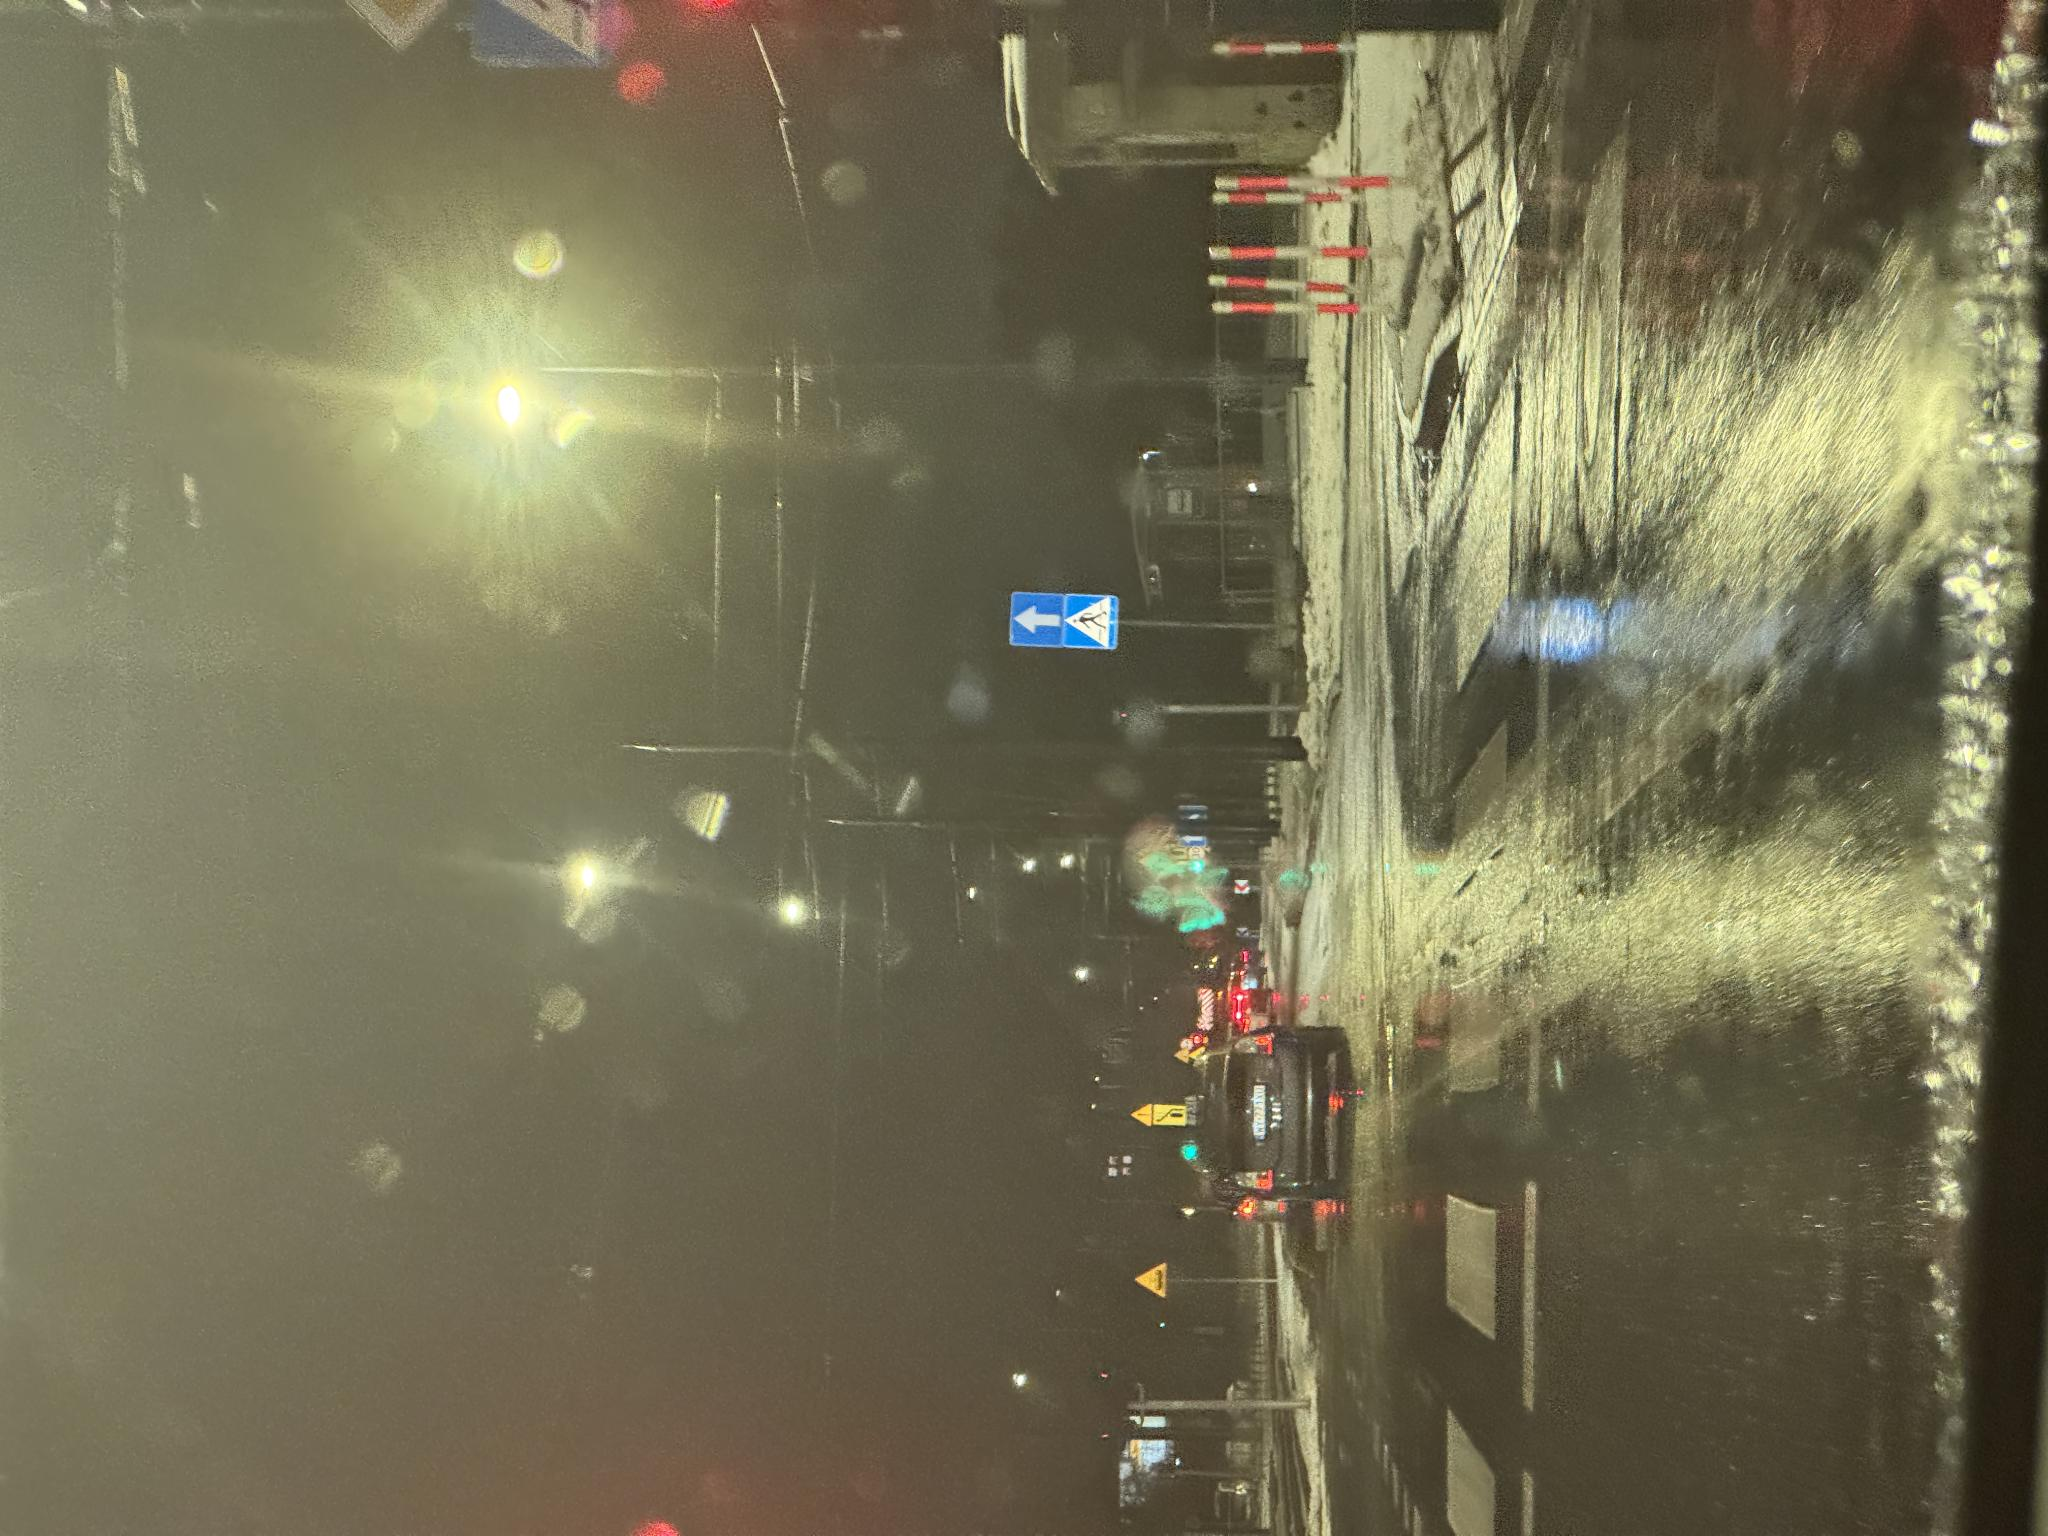information: (1471, 471, 1535, 620), (1485, 340, 1535, 452), (885, 1060, 942, 1118), (887, 1008, 947, 1063), (239, 1134, 276, 1168)
other: (411, 1152, 432, 1186)
warning: (410, 1131, 434, 1154), (472, 1173, 490, 1189)
